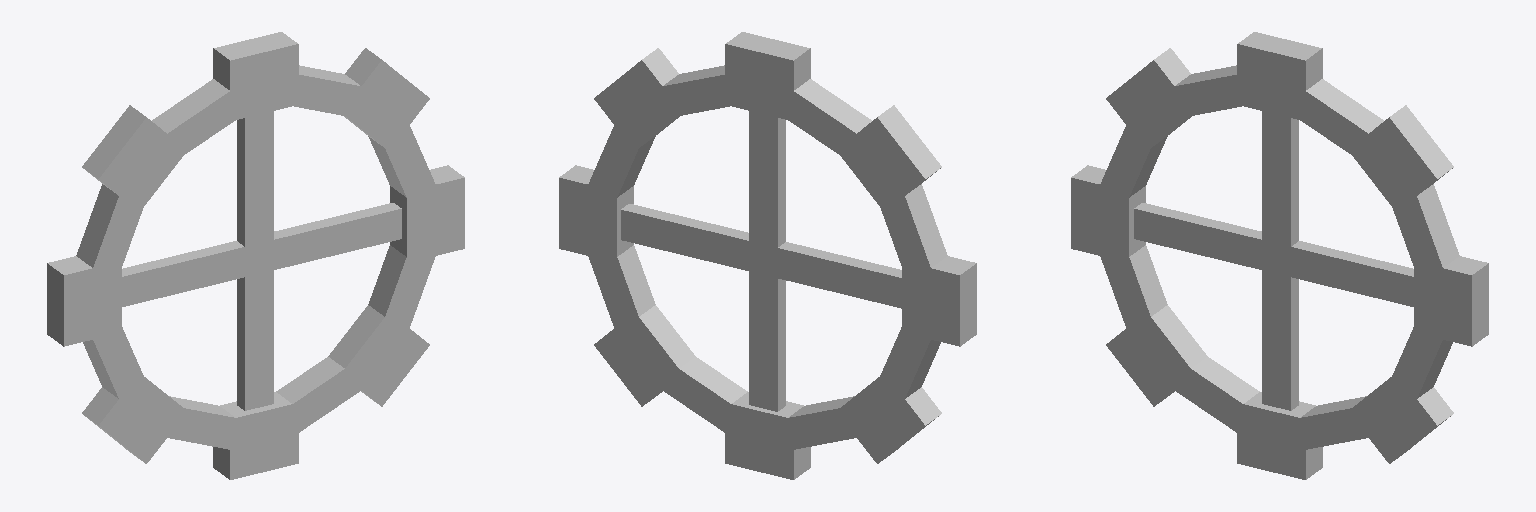
Rendered from centrifuge_cog.obj.
3 renders of one model, left to right at view 1: azimuth 30°, elevation 25°; view 2: azimuth 150°, elevation 25°; view 3: azimuth 330°, elevation 25°, orthographic.
Parts seen in each view (by area): view 1: CENTRIFUGE_COG_Cube.015; view 2: CENTRIFUGE_COG_Cube.015; view 3: CENTRIFUGE_COG_Cube.015.
Boxes of the visible parts, x1=… form: CENTRIFUGE_COG_Cube.015: x1=47, y1=32, x2=464, y2=479; CENTRIFUGE_COG_Cube.015: x1=559, y1=32, x2=976, y2=479; CENTRIFUGE_COG_Cube.015: x1=1071, y1=32, x2=1488, y2=479.
Bounding box in the file's own units: 0.8606 × 0.8606 × 0.0625.